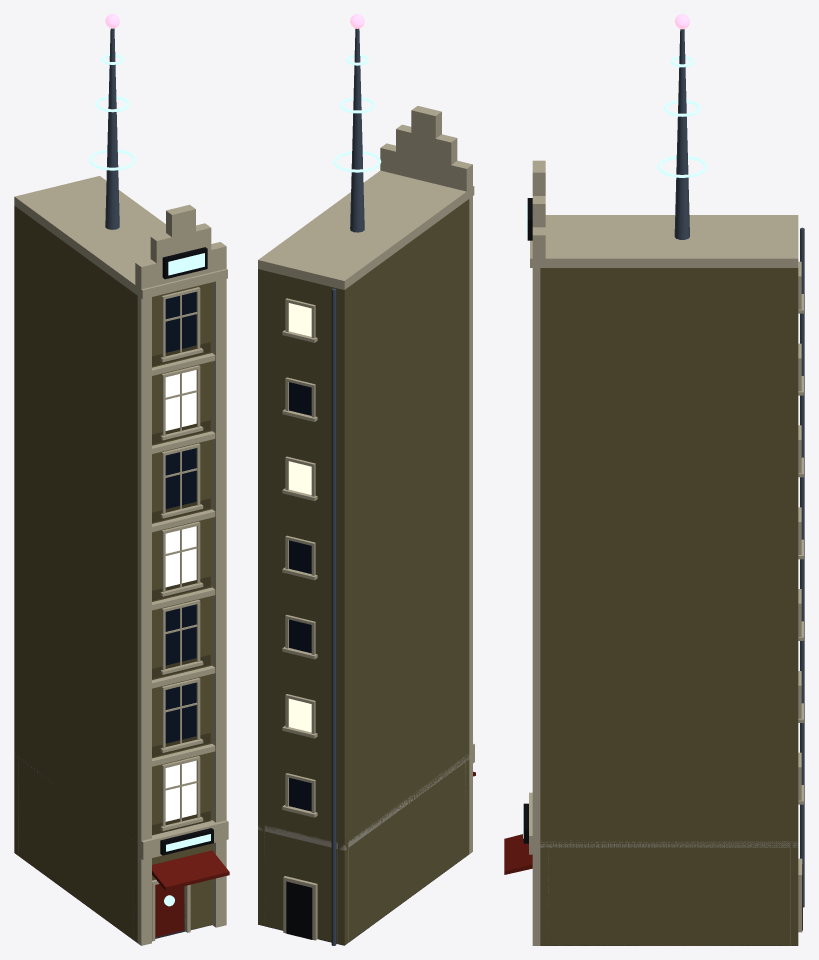
Rendered from row_needle.glb.
3 renders of one model, left to right at view 1: azimuth 30°, elevation 25°; view 2: azimuth 150°, elevation 25°; view 3: azimuth 270°, elevation 25°, orthographic. The views are drawn at different scales.
Parts seen in each view (by area): view 1: row_needle, door_shop_leaf; view 2: row_needle; view 3: row_needle.
Boxes of the visible parts, <box> form: row_needle: <box>14,14,229,945</box>; door_shop_leaf: <box>155,884,184,937</box>; row_needle: <box>258,14,475,945</box>; row_needle: <box>504,14,804,945</box>.
Size of the model in its own units: 4 by 38.9 by 11.64.
